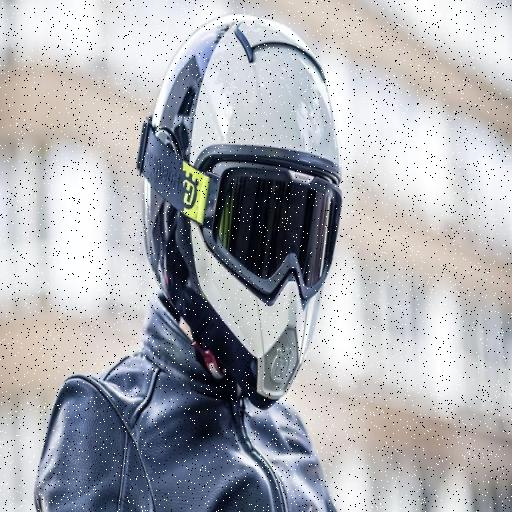Helmet: (137, 28, 367, 415)
